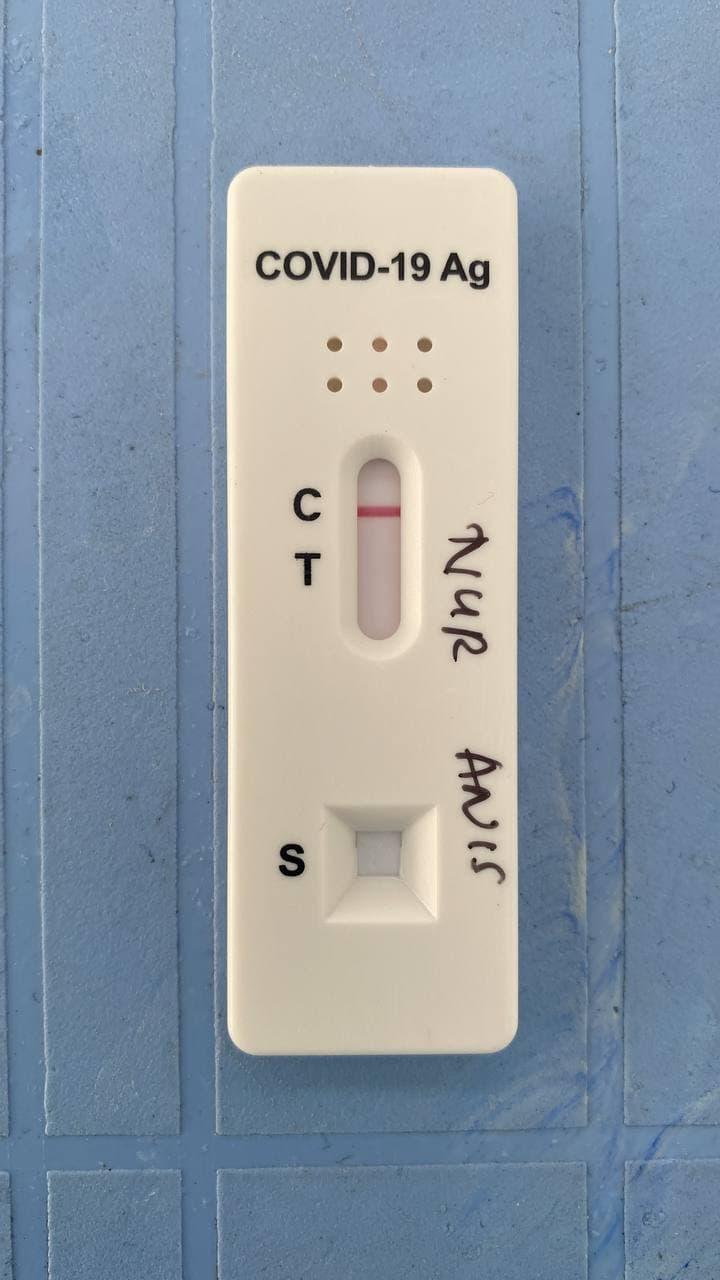rapid_test: (216, 158, 521, 1071)
